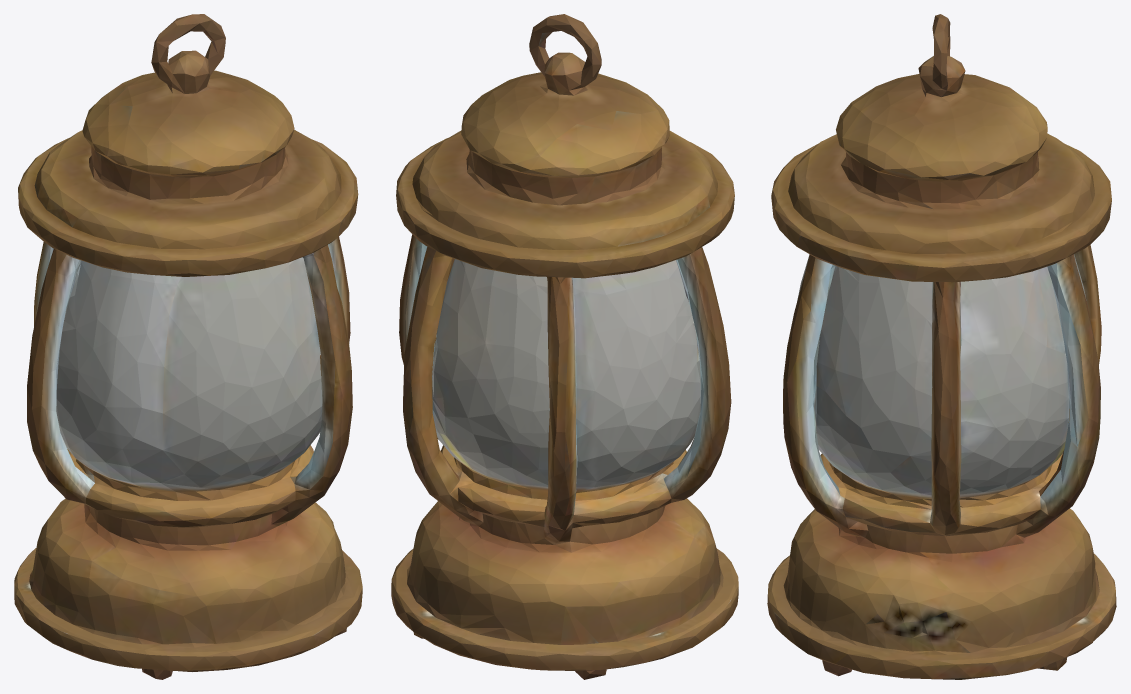
File: lantern_camp.glb
The picture shows the model from 3 angles, left to right: view 1: azimuth 30°, elevation 25°; view 2: azimuth 150°, elevation 25°; view 3: azimuth 270°, elevation 25°; orthographic projection.
Parts seen in each view (by area): view 1: tmpb7_476px.ply; view 2: tmpb7_476px.ply; view 3: tmpb7_476px.ply.
Boxes of the visible parts, bbox=[...] form: tmpb7_476px.ply: bbox=[14, 14, 362, 679]; tmpb7_476px.ply: bbox=[391, 14, 738, 679]; tmpb7_476px.ply: bbox=[767, 14, 1116, 679].
Bounding box in the file's own units: 1.11 × 2 × 1.04.
1 material, 1 textured.
